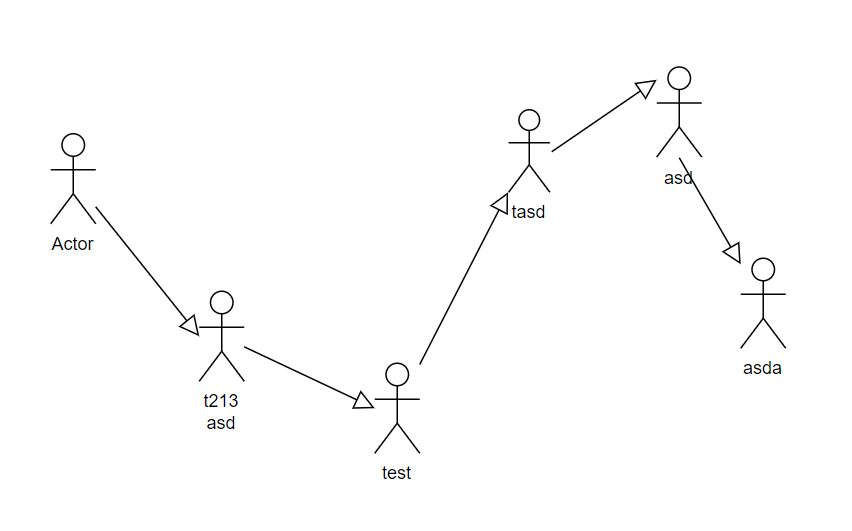actor: (198, 290, 246, 383), (740, 258, 786, 351), (376, 362, 420, 454), (659, 65, 702, 158), (52, 132, 94, 225), (508, 108, 551, 192)
generalization: (420, 193, 508, 364), (95, 208, 199, 336), (244, 347, 373, 410), (551, 79, 659, 151), (678, 158, 742, 266)
text: (199, 391, 240, 433), (44, 229, 98, 255), (739, 358, 782, 381), (375, 462, 416, 484), (655, 168, 694, 186), (510, 204, 548, 222)
